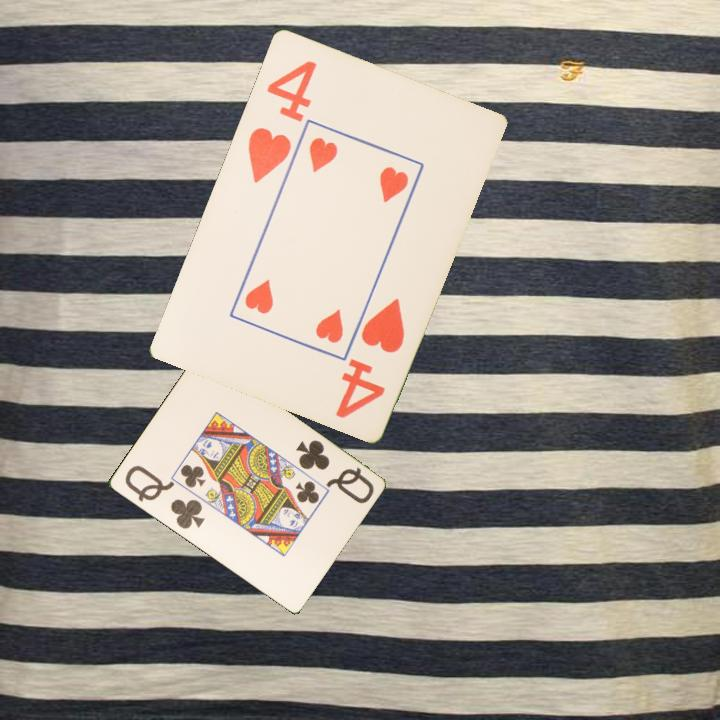4h: (244, 56, 320, 186), (331, 294, 408, 421)
Qc: (121, 462, 208, 532), (292, 436, 377, 507)
